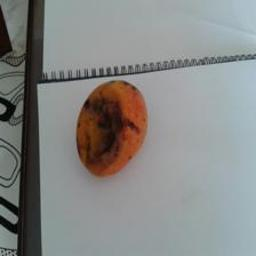Mango Rotten: (65, 79, 155, 179)
